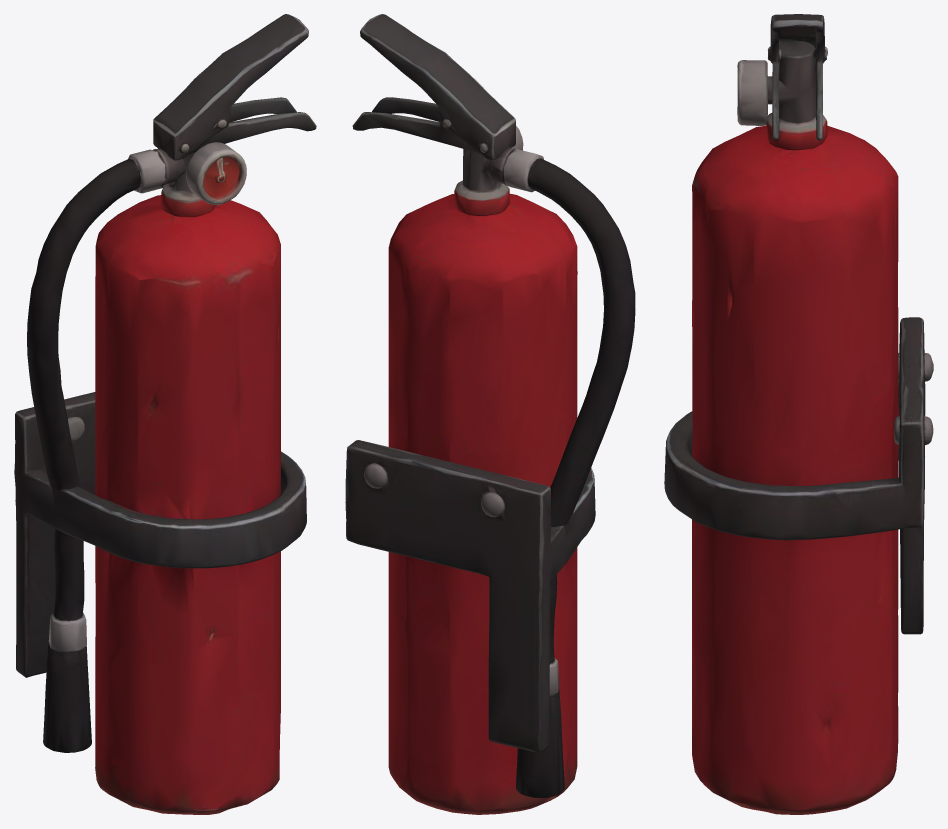
File: decor_extinguisher_1_idle.glb
3 views of the same model, side by side, from view 1: azimuth 30°, elevation 25°; view 2: azimuth 150°, elevation 25°; view 3: azimuth 270°, elevation 25° (orthographic). The views are drawn at different scales.
Visible parts, largest first — view 1: tripo_node_6b36071a-8278-440c-a7bd-04e71538856e; view 2: tripo_node_6b36071a-8278-440c-a7bd-04e71538856e; view 3: tripo_node_6b36071a-8278-440c-a7bd-04e71538856e.
Part boxes in pixels (x1=…): tripo_node_6b36071a-8278-440c-a7bd-04e71538856e: x1=14, y1=14, x2=316, y2=814; tripo_node_6b36071a-8278-440c-a7bd-04e71538856e: x1=345, y1=14, x2=635, y2=814; tripo_node_6b36071a-8278-440c-a7bd-04e71538856e: x1=664, y1=14, x2=933, y2=814.
Bounding box in the file's own units: 0.2332 × 0.6 × 0.1793.
1 material, 1 textured.
